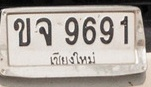txt02: (12, 17, 33, 48)
txt06: (35, 17, 53, 48)
